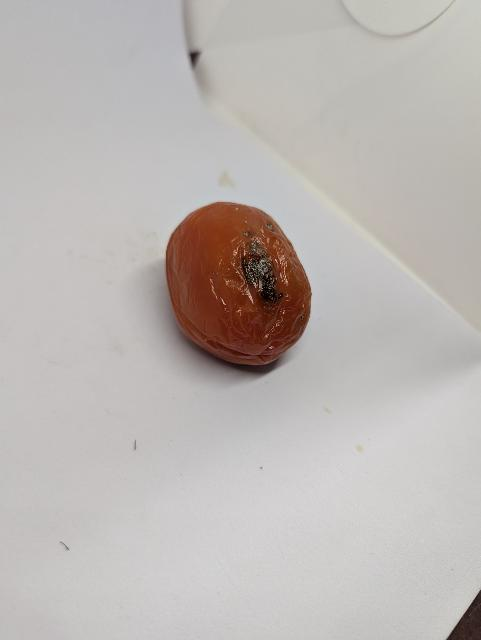defect: (165, 198, 315, 373)
